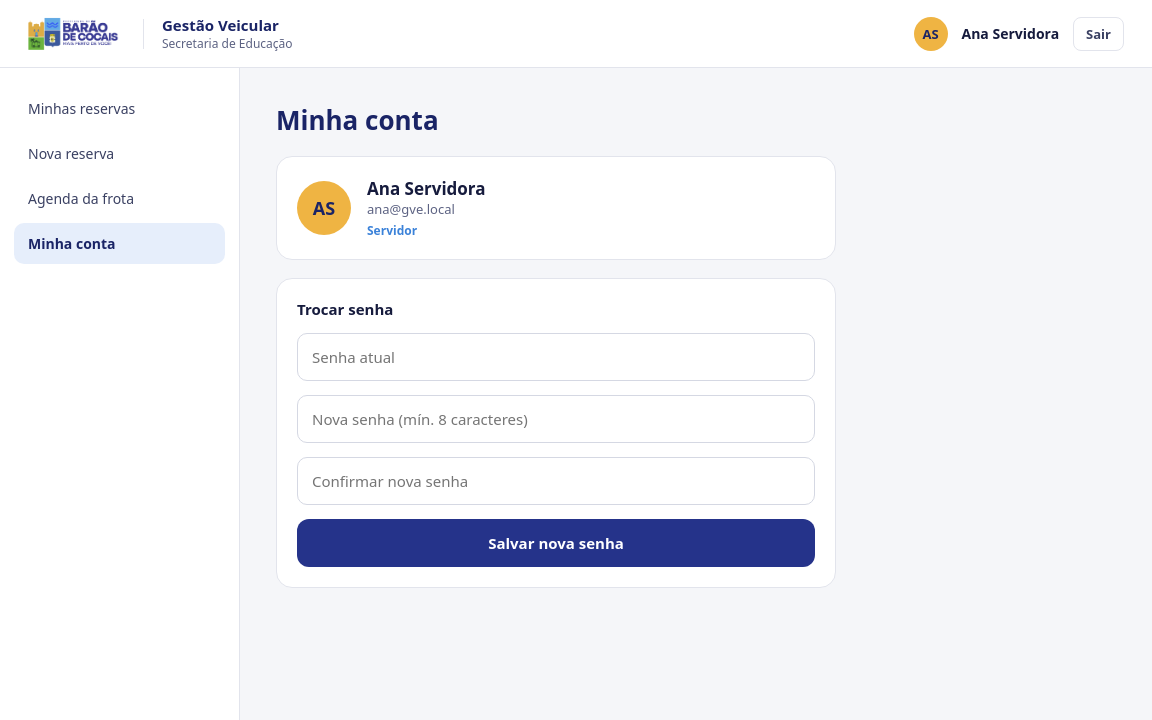
Test: Minha conta › mostra os dados do usuário e troca a senha pedindo a atual
Expected: the text "ana@gve.local" is shown, [367,200,455,218]
Expected: the text "AS" in the row of "Secretaria de Educação" is shown, [922,24,938,42]
Type "senha-boa-123" into the password field labelled "Senha atual". click: (556,357)
box: [297,333,815,381]
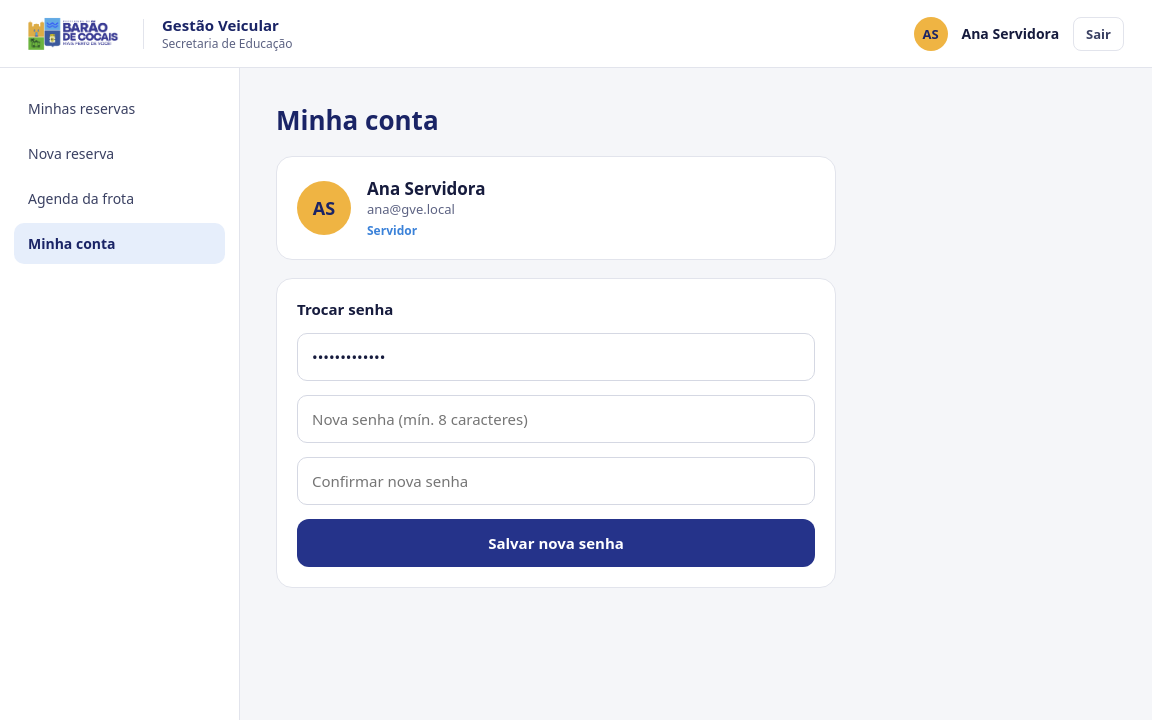
Type "nova-senha-456" into the password field labelled "Nova senha". click: (556,419)
box: [297,395,815,443]
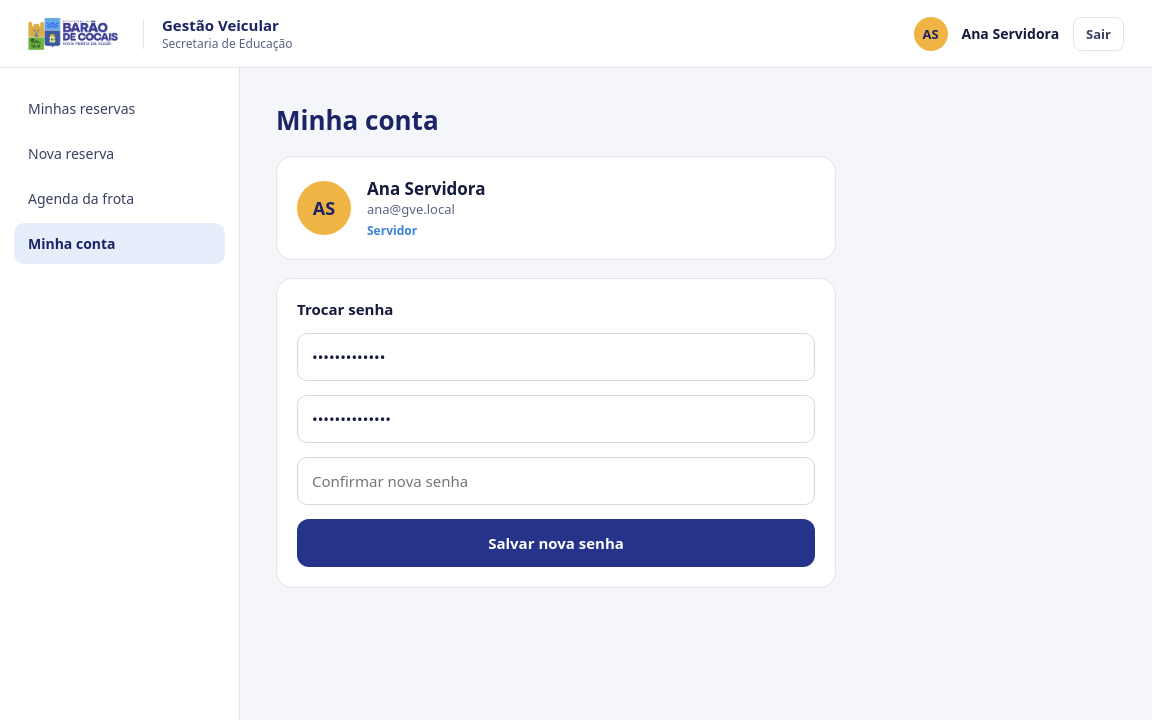
Type "nova-senha-456" into the password field labelled "Confirmar nova senha". click: (556,481)
box: [297,457,815,505]
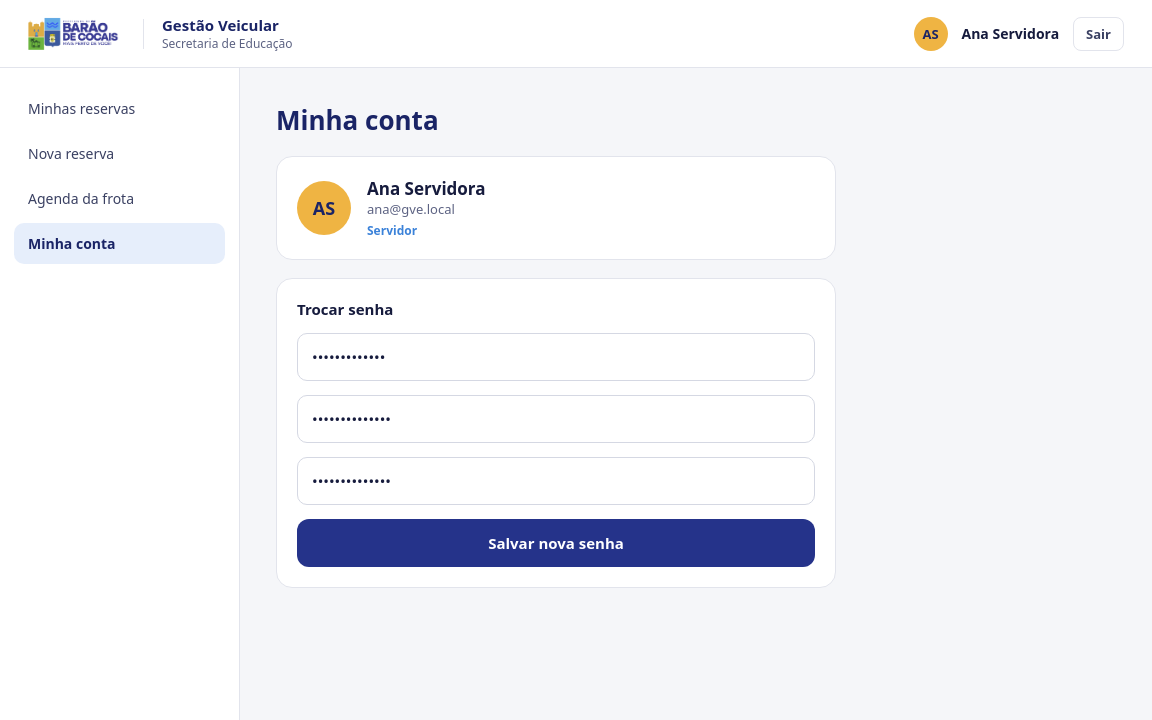
Click the button "Salvar nova senha". click: (556,543)
box: [297,519,815,567]
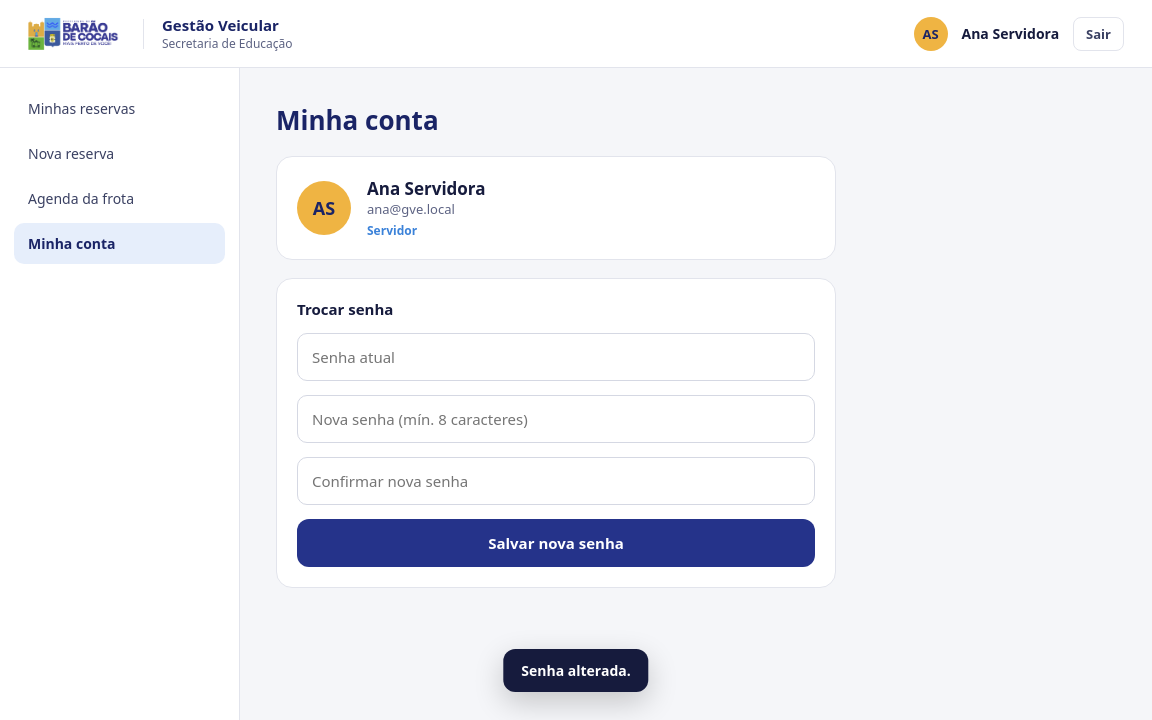
Expected: the text "Senha alterada." is shown, [503,649,649,692]
